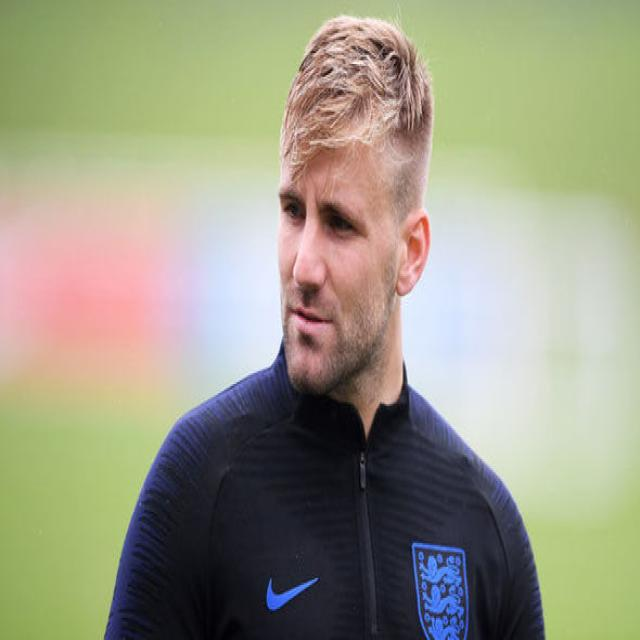human: (106, 17, 547, 640)
